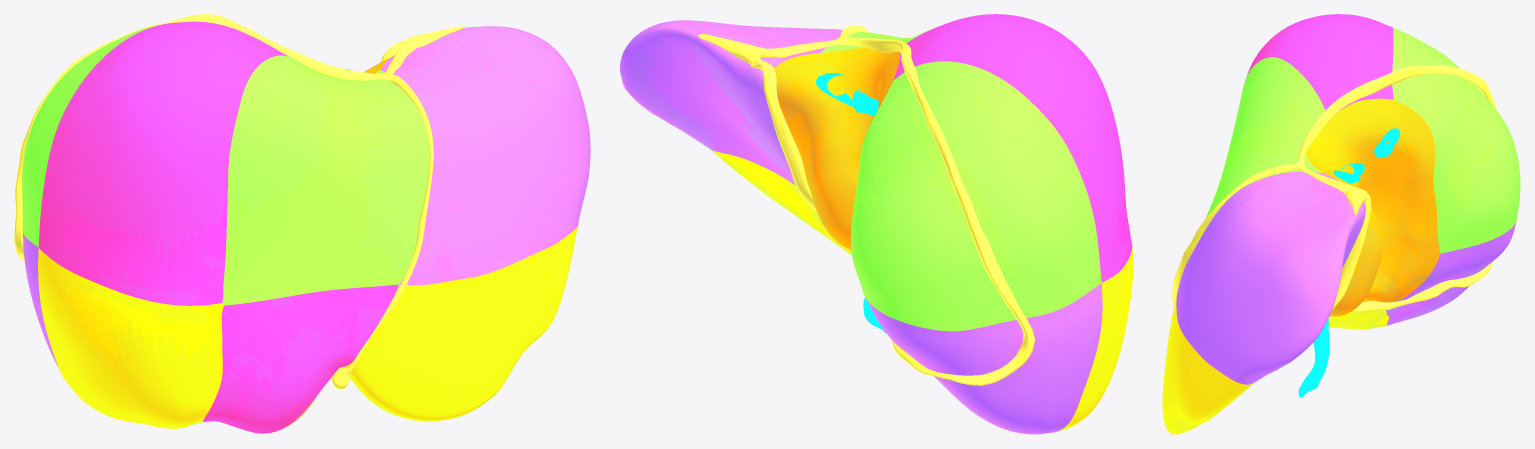
File: leber-female-mobil.glb
The picture shows the model from 3 angles, left to right: view 1: azimuth 30°, elevation 25°; view 2: azimuth 150°, elevation 25°; view 3: azimuth 270°, elevation 25°; orthographic projection. The views are drawn at different scales.
Parts seen in each view (by area): view 1: 0:13:VH_F_right_anterosuperior_segment, 0:8:VH_F_left_superomedial_segment1, 0:4:VH_F_left_superomedial_segment, 0:3:VH_F_left_anterolateral_segment, 0:12:VH_F_right_anteroinferior_segment, 0:7:VH_F_left_inferomedial_segment, 0:15:VH_F_right_posterosuperior_segment, 0:22:VH_F_coronary_ligament_of_liver, 0:23:VH_F_falciform_ligament, 0:14:VH_F_right_posteroinferior_segment, 0:27:VH_F_triangular_ligament_of_liver; view 2: 0:15:VH_F_right_posterosuperior_segment, 0:13:VH_F_right_anterosuperior_segment, 0:4:VH_F_left_superomedial_segment, 0:14:VH_F_right_posteroinferior_segment, 0:11:VH_F_caudate_lobe, 0:22:VH_F_coronary_ligament_of_liver, 0:12:VH_F_right_anteroinferior_segment, 0:3:VH_F_left_anterolateral_segment, 0:25:VH_F_ligamentum_venosum, 0:27:VH_F_triangular_ligament_of_liver, 0:8:VH_F_left_superomedial_segment1; view 3: 0:4:VH_F_left_superomedial_segment, 0:11:VH_F_caudate_lobe, 0:15:VH_F_right_posterosuperior_segment, 0:8:VH_F_left_superomedial_segment1, 0:13:VH_F_right_anterosuperior_segment, 0:3:VH_F_left_anterolateral_segment, 0:22:VH_F_coronary_ligament_of_liver, 0:14:VH_F_right_posteroinferior_segment, 0:23:VH_F_falciform_ligament, 0:25:VH_F_ligamentum_venosum, 1:0:VH_F_hepatic_portal_vein, 0:12:VH_F_right_anteroinferior_segment (+2 smaller).
Part boxes in pixels (bbox=[...]): 0:13:VH_F_right_anterosuperior_segment: bbox=[38, 21, 288, 305]; 0:8:VH_F_left_superomedial_segment1: bbox=[222, 55, 433, 305]; 0:4:VH_F_left_superomedial_segment: bbox=[380, 26, 590, 285]; 0:3:VH_F_left_anterolateral_segment: bbox=[341, 226, 577, 421]; 0:12:VH_F_right_anteroinferior_segment: bbox=[38, 248, 223, 428]; 0:7:VH_F_left_inferomedial_segment: bbox=[203, 284, 398, 433]; 0:15:VH_F_right_posterosuperior_segment: bbox=[22, 24, 160, 247]; 0:22:VH_F_coronary_ligament_of_liver: bbox=[14, 14, 413, 261]; 0:23:VH_F_falciform_ligament: bbox=[344, 73, 433, 375]; 0:14:VH_F_right_posteroinferior_segment: bbox=[22, 230, 60, 371]; 0:27:VH_F_triangular_ligament_of_liver: bbox=[401, 26, 465, 49]; 0:15:VH_F_right_posterosuperior_segment: bbox=[851, 61, 1101, 331]; 0:13:VH_F_right_anterosuperior_segment: bbox=[894, 14, 1132, 282]; 0:4:VH_F_left_superomedial_segment: bbox=[620, 20, 842, 185]; 0:14:VH_F_right_posteroinferior_segment: bbox=[866, 283, 1102, 434]; 0:11:VH_F_caudate_lobe: bbox=[774, 47, 899, 250]; 0:22:VH_F_coronary_ligament_of_liver: bbox=[767, 36, 1034, 385]; 0:12:VH_F_right_anteroinferior_segment: bbox=[1058, 248, 1133, 431]; 0:3:VH_F_left_anterolateral_segment: bbox=[710, 149, 851, 255]; 0:25:VH_F_ligamentum_venosum: bbox=[751, 53, 817, 213]; 0:27:VH_F_triangular_ligament_of_liver: bbox=[697, 34, 772, 65]; 0:8:VH_F_left_superomedial_segment1: bbox=[821, 30, 929, 52]; 0:4:VH_F_left_superomedial_segment: bbox=[1176, 171, 1365, 384]; 0:11:VH_F_caudate_lobe: bbox=[1305, 98, 1440, 316]; 0:15:VH_F_right_posterosuperior_segment: bbox=[1392, 28, 1520, 253]; 0:8:VH_F_left_superomedial_segment1: bbox=[1199, 57, 1325, 240]; 0:13:VH_F_right_anterosuperior_segment: bbox=[1247, 14, 1393, 110]; 0:3:VH_F_left_anterolateral_segment: bbox=[1162, 295, 1253, 434]; 0:22:VH_F_coronary_ligament_of_liver: bbox=[1298, 65, 1496, 312]; 0:14:VH_F_right_posteroinferior_segment: bbox=[1386, 223, 1515, 325]; 0:23:VH_F_falciform_ligament: bbox=[1172, 162, 1298, 307]; 0:25:VH_F_ligamentum_venosum: bbox=[1331, 189, 1371, 311]; 1:0:VH_F_hepatic_portal_vein: bbox=[1298, 318, 1329, 397]; 0:12:VH_F_right_anteroinferior_segment: bbox=[1328, 310, 1388, 329].
Bounding box in the file's own units: 0.2471 × 0.17 × 0.1663.
